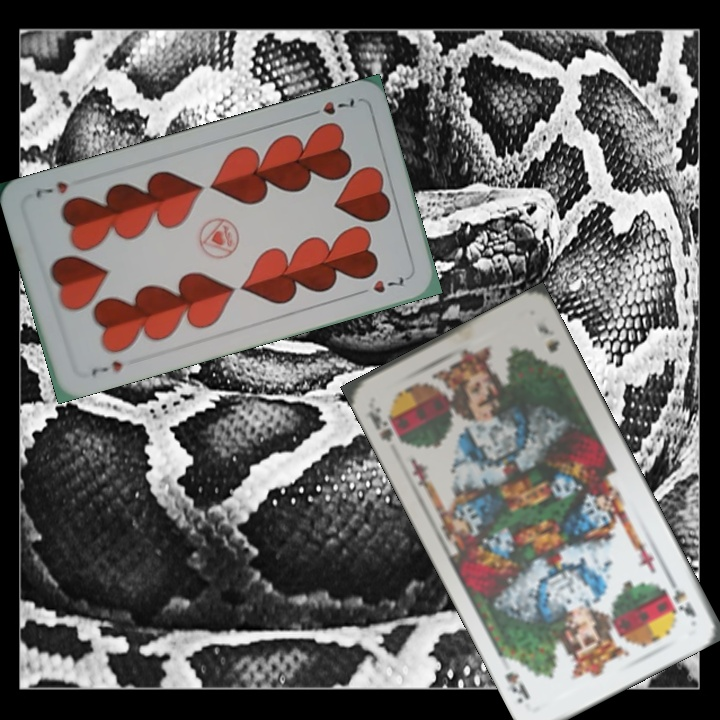H7: (302, 94, 359, 119), (87, 356, 125, 379)
SK: (661, 570, 699, 620), (363, 402, 396, 445)
